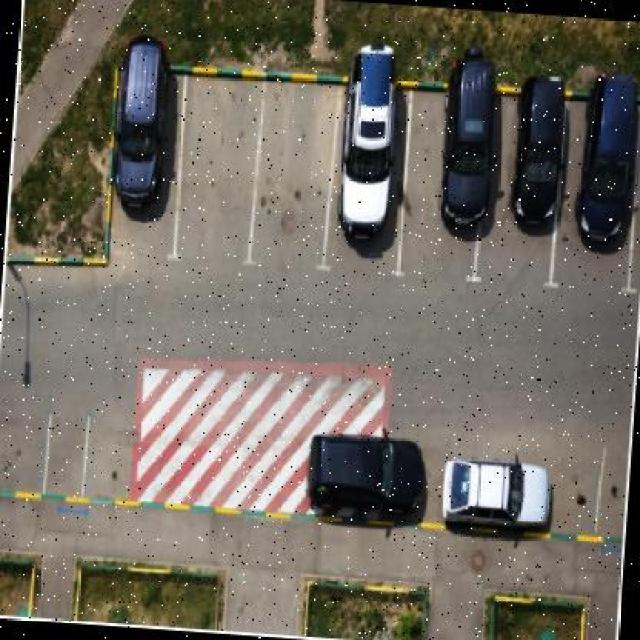Car: (339, 53, 415, 255), (115, 52, 179, 219), (426, 70, 492, 227), (575, 95, 640, 246), (451, 449, 557, 541), (313, 440, 426, 514), (513, 92, 567, 207)
Empty: (269, 86, 329, 247), (192, 84, 255, 230), (95, 420, 133, 494), (1, 421, 35, 486)
